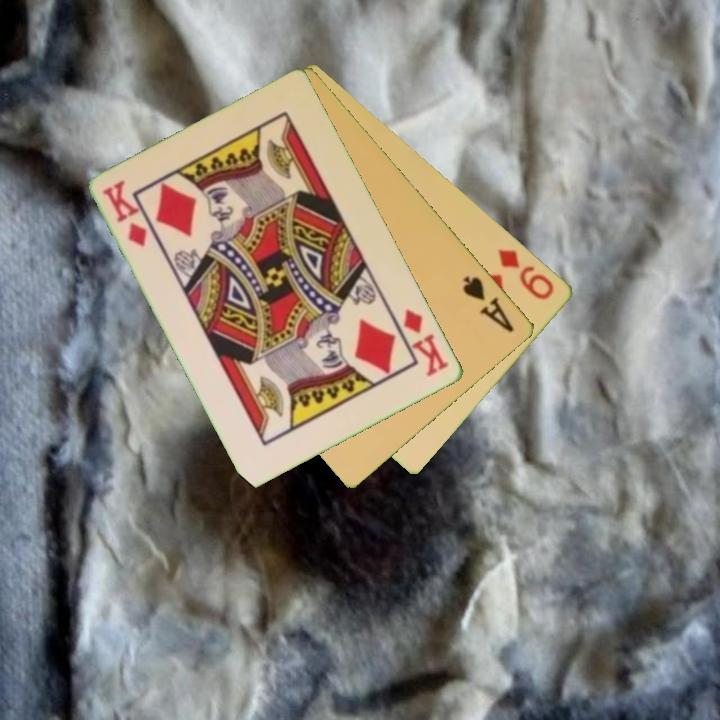9d: (495, 245, 558, 303)
As: (459, 272, 518, 336)
Kd: (400, 305, 453, 380), (100, 177, 151, 250)
